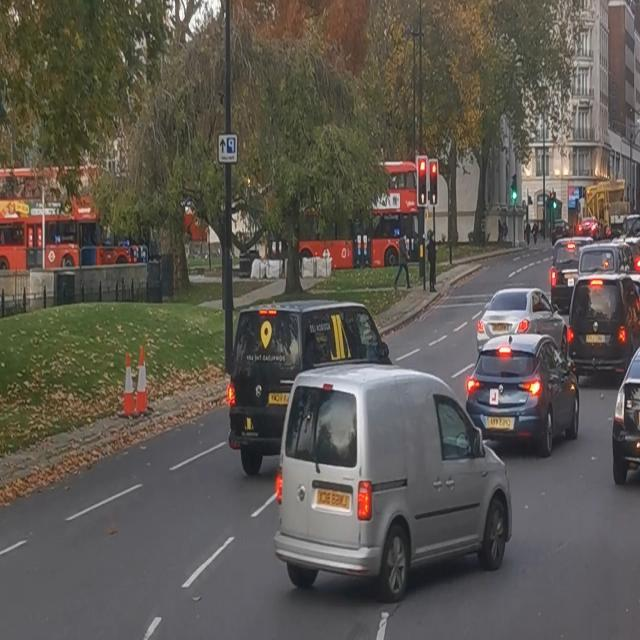Ad-signs: (216, 132, 238, 163)
Bus: (0, 163, 138, 271)
Car: (463, 332, 580, 457)
MiniBus: (271, 360, 512, 601), (225, 298, 391, 475)
Traffic-light: (509, 173, 518, 203)
